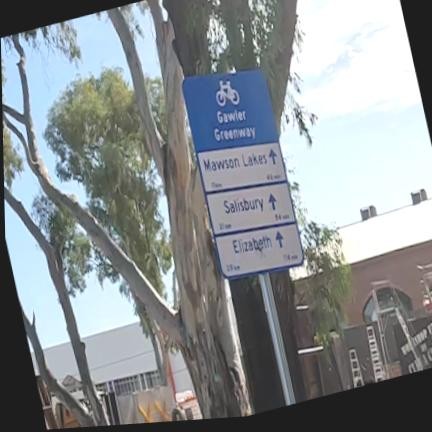Bike_Sign: (182, 70, 304, 406)
